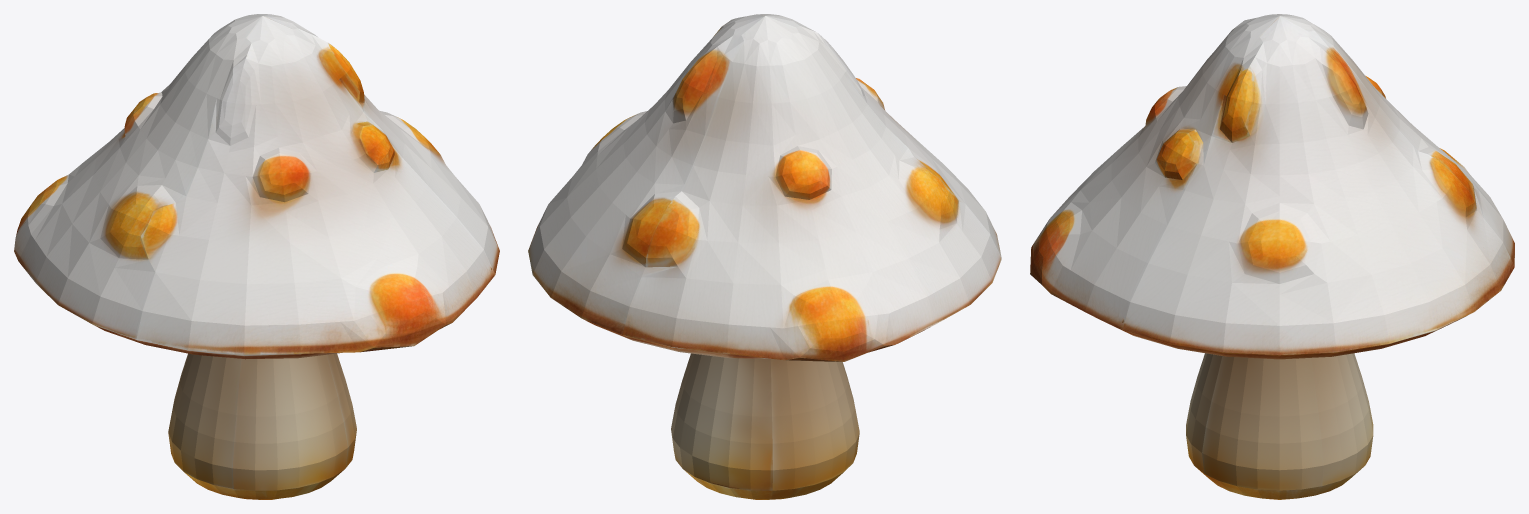
3 views of the same model, side by side, from view 1: azimuth 30°, elevation 25°; view 2: azimuth 150°, elevation 25°; view 3: azimuth 270°, elevation 25° (orthographic).
Visible parts, largest first — view 1: mesh.003; view 2: mesh.003; view 3: mesh.003.
Boxes of the visible parts, <box> form: mesh.003: <box>14,14,499,499</box>; mesh.003: <box>528,14,1001,499</box>; mesh.003: <box>1030,14,1514,499</box>.
Bounding box in the file's own units: 0.9801 × 1.07 × 1.
Materials: 1 (1 with a texture image).
